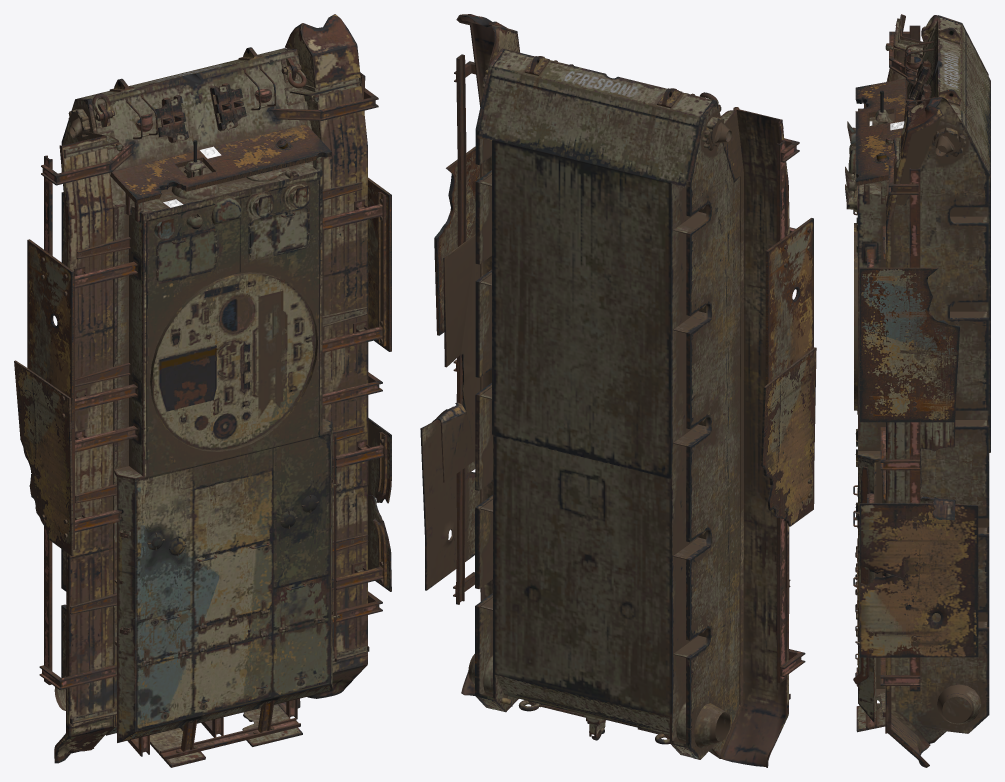
File: Hull_01.glb
3 renders of one model, left to right at view 1: azimuth 30°, elevation 25°; view 2: azimuth 150°, elevation 25°; view 3: azimuth 270°, elevation 25°, orthographic. The views are drawn at different scales.
Parts seen in each view (by area): view 1: set_0_group_0, set_0_group_1; view 2: set_0_group_0, set_0_group_1; view 3: set_0_group_0, set_0_group_1.
Boxes of the visible parts, x1,y1,x2,y2 form: set_0_group_0: [14, 14, 391, 767]; set_0_group_1: [27, 177, 391, 428]; set_0_group_0: [420, 14, 816, 767]; set_0_group_1: [434, 146, 813, 385]; set_0_group_0: [845, 14, 990, 767]; set_0_group_1: [859, 267, 959, 422].
Size of the model in its own units: 3.26 by 6.24 by 1.25.
3 materials, 2 textured.
